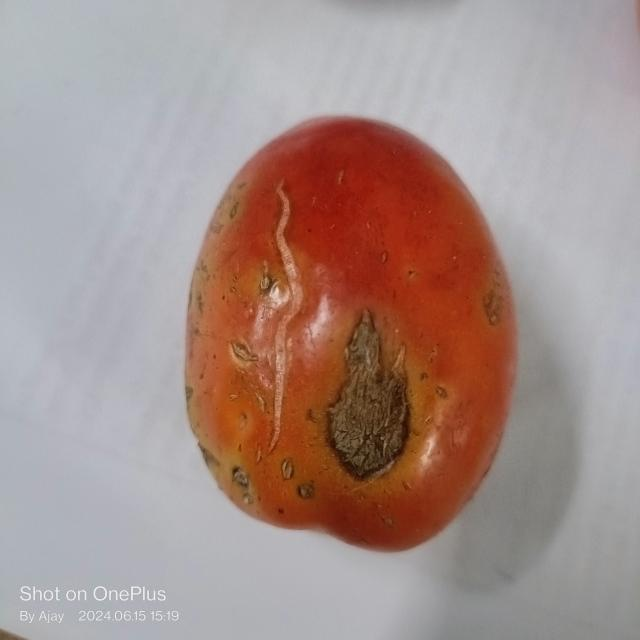tomato_cracking: (322, 303, 411, 483), (266, 174, 301, 455)
